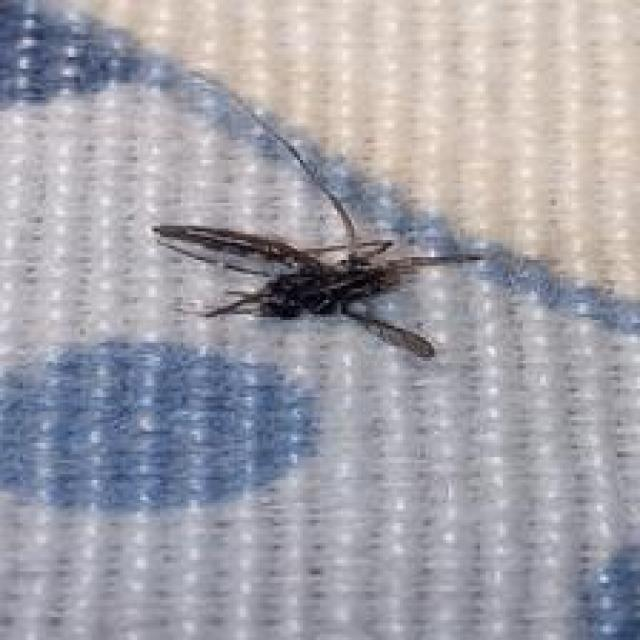Aedes albopictus: (150, 107, 484, 362)
